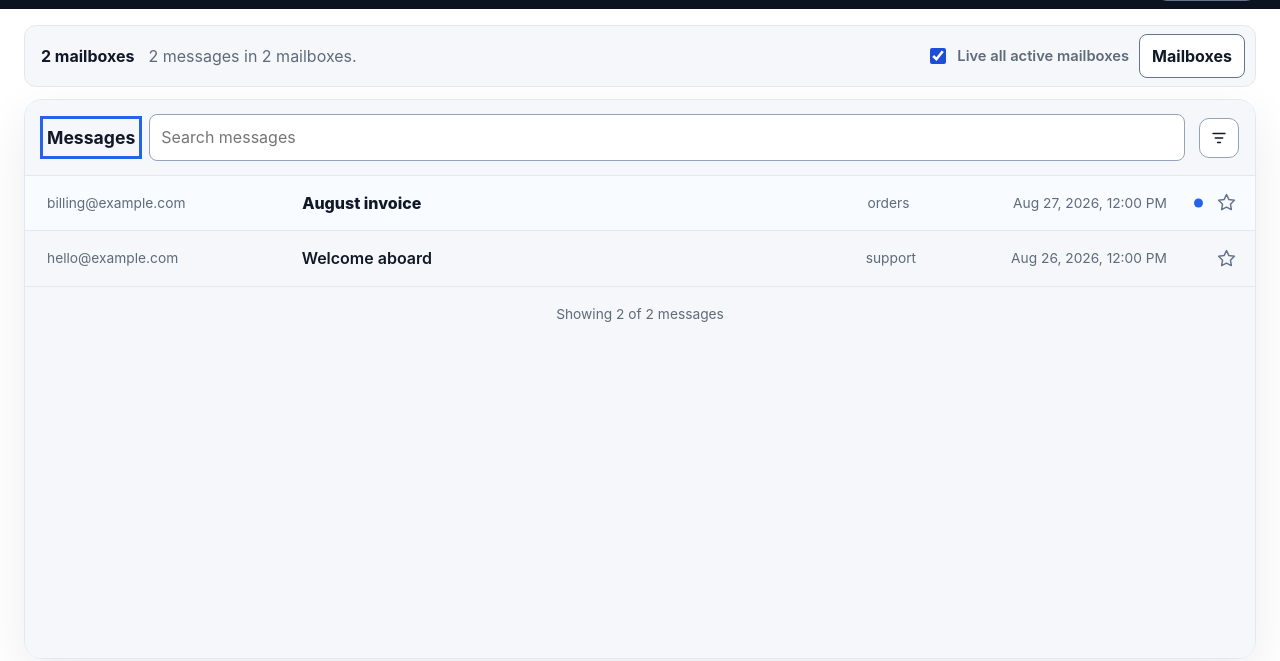
Test: mailbox workspace › restores available selections after delayed startup across repeated reloads
Expected: the heading "Messages" is shown, [47,123,135,152]
Expected: the text "2 messages in 2 mailboxes." is shown, [148,43,357,69]
Click the heading named "Manage saved mailboxes": (1192, 56) [1139,34,1245,78]
(page scrolled)
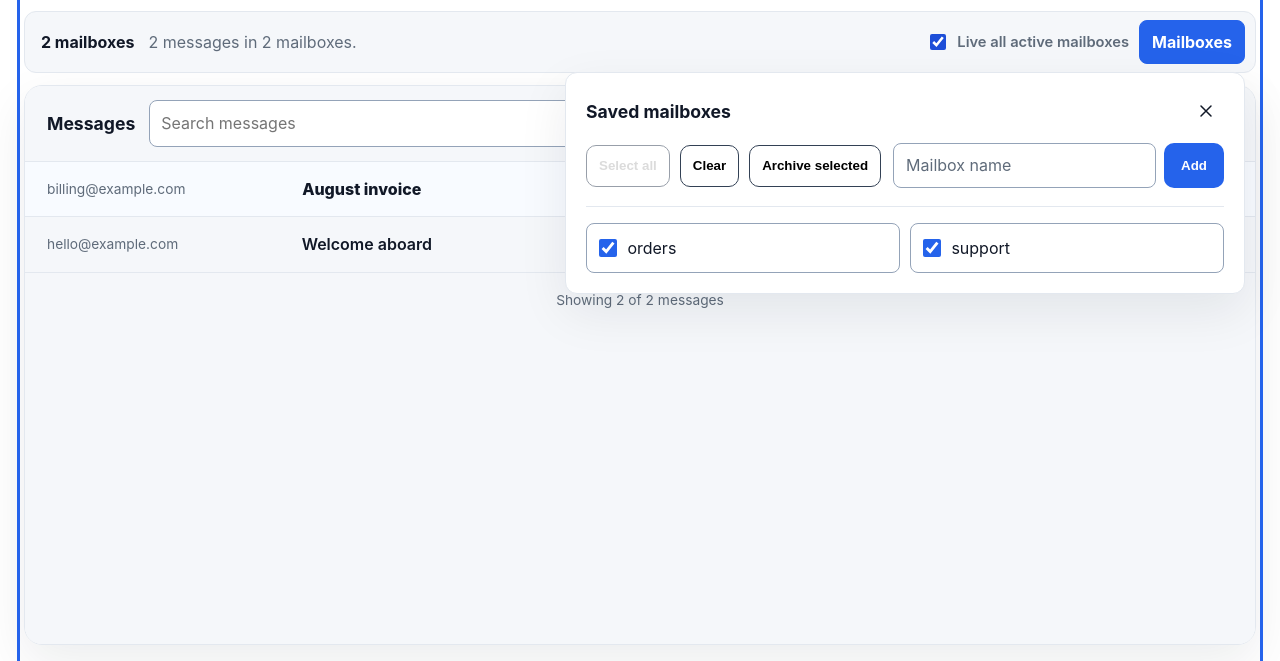
Result: the checkbox labelled "orders" is checked at [599,239,617,257]
Result: the checkbox labelled "support" is checked at [923,239,941,257]
